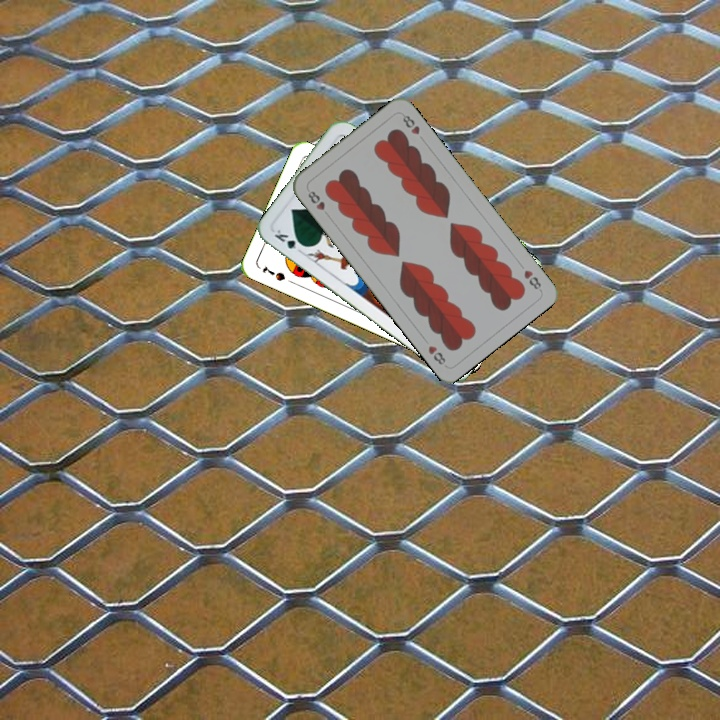GK: (270, 225, 308, 253)
H8: (304, 187, 333, 220), (520, 266, 544, 293)
S7: (258, 261, 288, 283)
